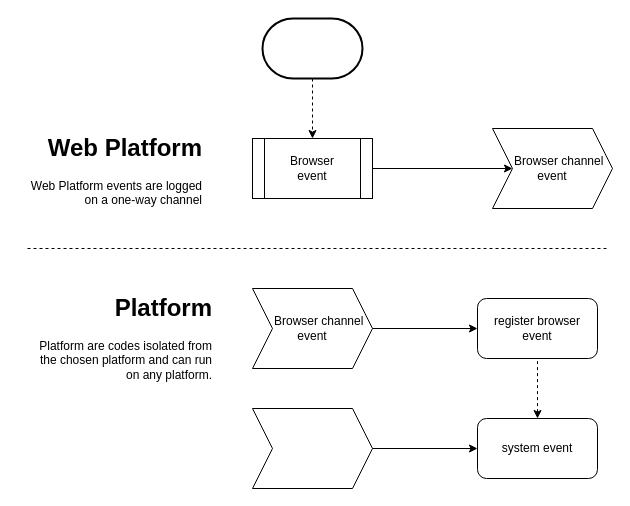
Some shapes in this 630 by 506 pixel diagram are drawn without their labels. Each missing label, with the centre of its shape:
engine ticker event: [312,448]
New document(): [312,48]
